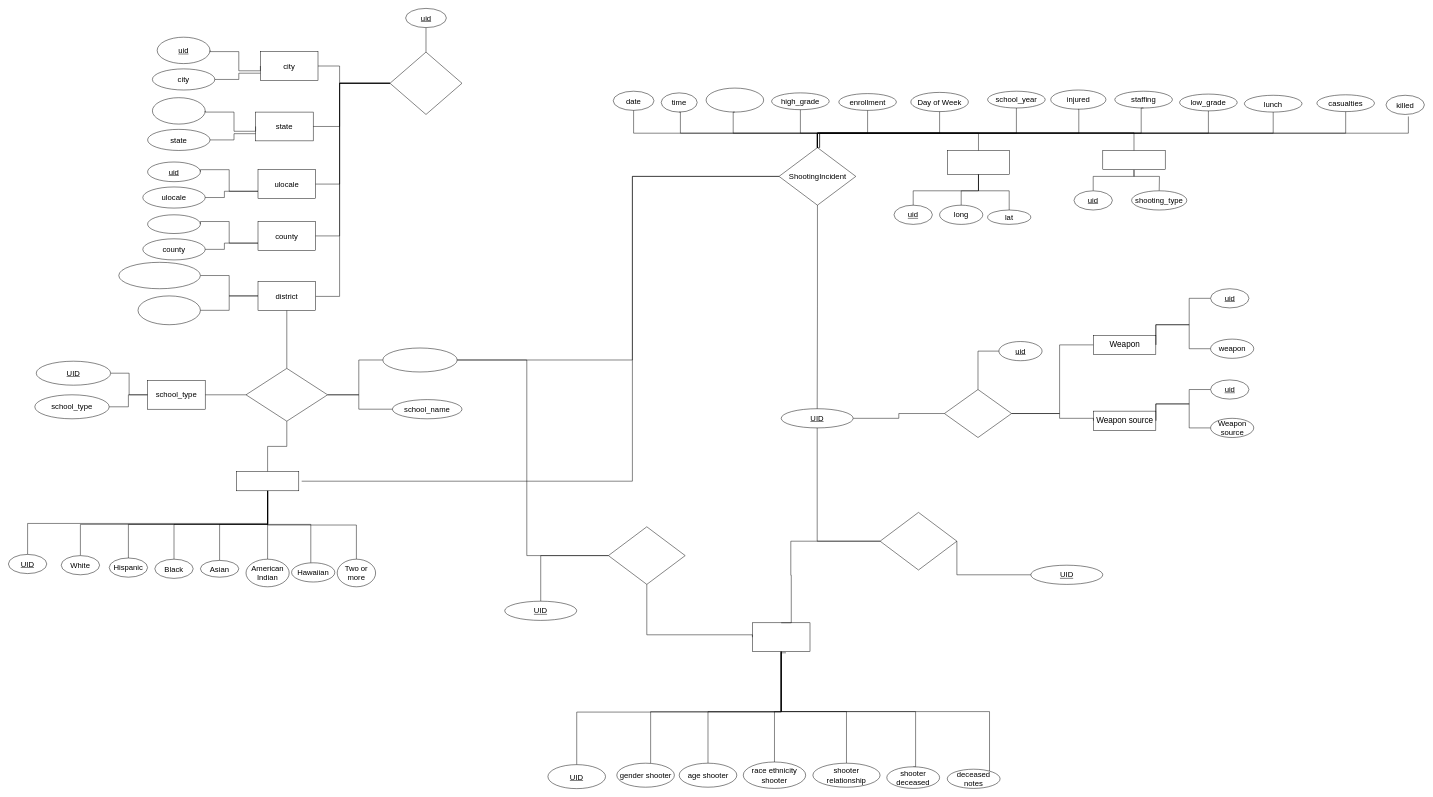
This 1433x797 diagram has some shape labels left out. Each missing label, with the centre of its shape:
county_fips: (173,224)
district_info: (426,83)
district_name: (169,310)
nces_district_id: (159,275)
nces_school_id: (419,360)
resource_officer: (735,100)
School_info: (287,394)
SchoolEthnicity: (267,481)
SchoolShooter Relation: (646,555)
Shooter-Incident: (918,541)
ShooterIncident Location: (978,162)
ShooterWeapon: (978,413)
ShootingType: (1133,160)
state_fips: (178,110)
TypeShooter: (781,637)
